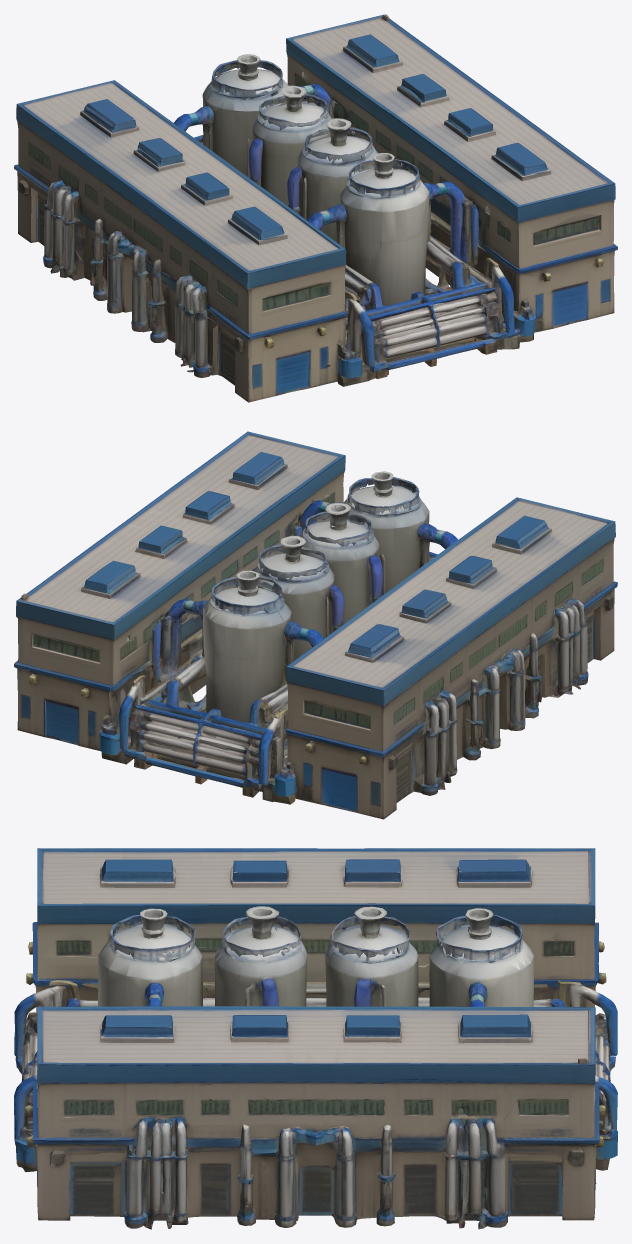
The model's file is lm_desalination_nb.glb.
The picture shows the model from 3 angles, top to bottom: view 1: azimuth 30°, elevation 25°; view 2: azimuth 150°, elevation 25°; view 3: azimuth 270°, elevation 25°; orthographic projection. The views are drawn at different scales.
Parts seen in each view (by area): view 1: geometry_0; view 2: geometry_0; view 3: geometry_0.
Boxes of the visible parts, box(x1,y1,x2,y2) form: geometry_0: box(14, 14, 617, 402); geometry_0: box(14, 431, 617, 819); geometry_0: box(14, 848, 617, 1229).
Bounding box in the file's own units: 117 × 48.82 × 128.
Materials: 1 (1 with a texture image).
